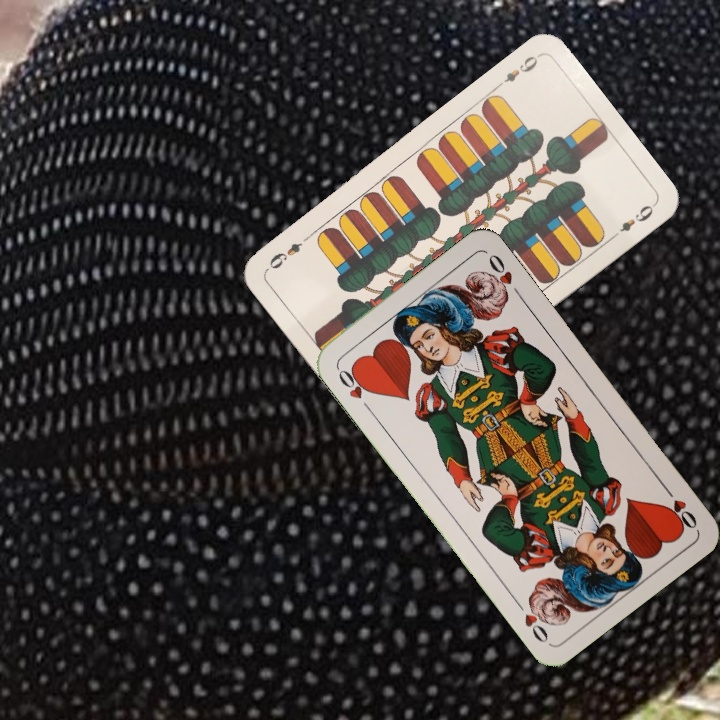E9: (491, 51, 542, 92)
HO: (658, 480, 700, 532), (333, 363, 375, 414)
